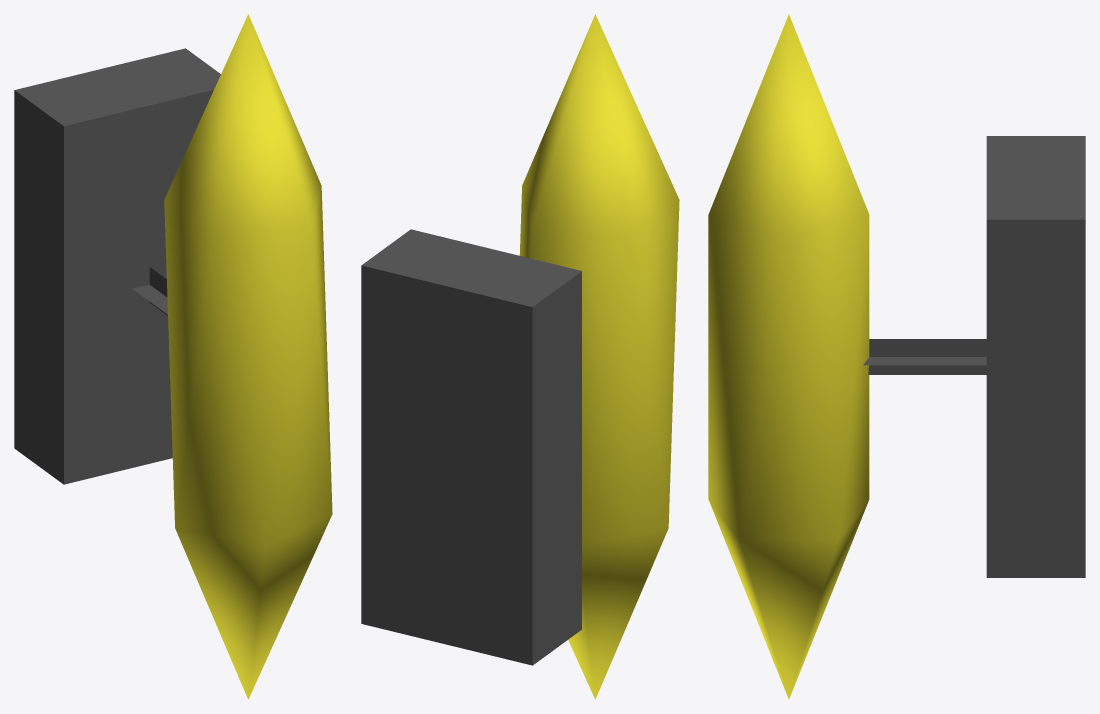
File: light_wall_end_mockup.fbx
3 views of the same model, side by side, from view 1: azimuth 30°, elevation 25°; view 2: azimuth 150°, elevation 25°; view 3: azimuth 270°, elevation 25° (orthographic).
Parts seen in each view (by area): view 1: Icosphere.004; view 2: Icosphere.004; view 3: Icosphere.004.
Boxes of the visible parts, <box> form: Icosphere.004: <box>14,14,332,699</box>; Icosphere.004: <box>361,14,679,699</box>; Icosphere.004: <box>708,14,1085,699</box>.
Size of the model in its own units: 0.1 by 0.1907 by 0.3828.
